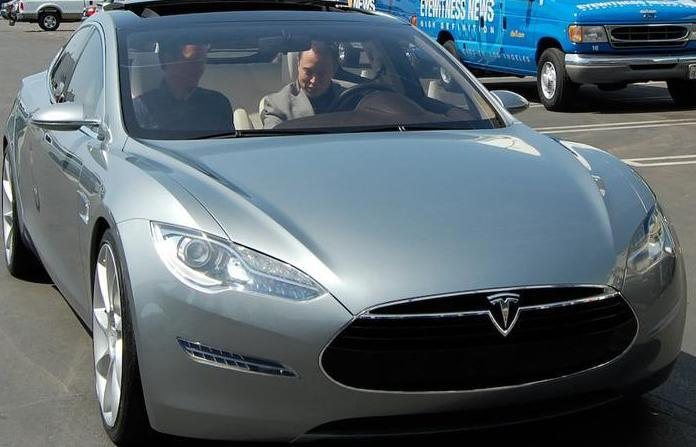front_view: (147, 180, 682, 427)
headlight: (137, 215, 338, 310)
side_glass: (47, 24, 105, 138)
